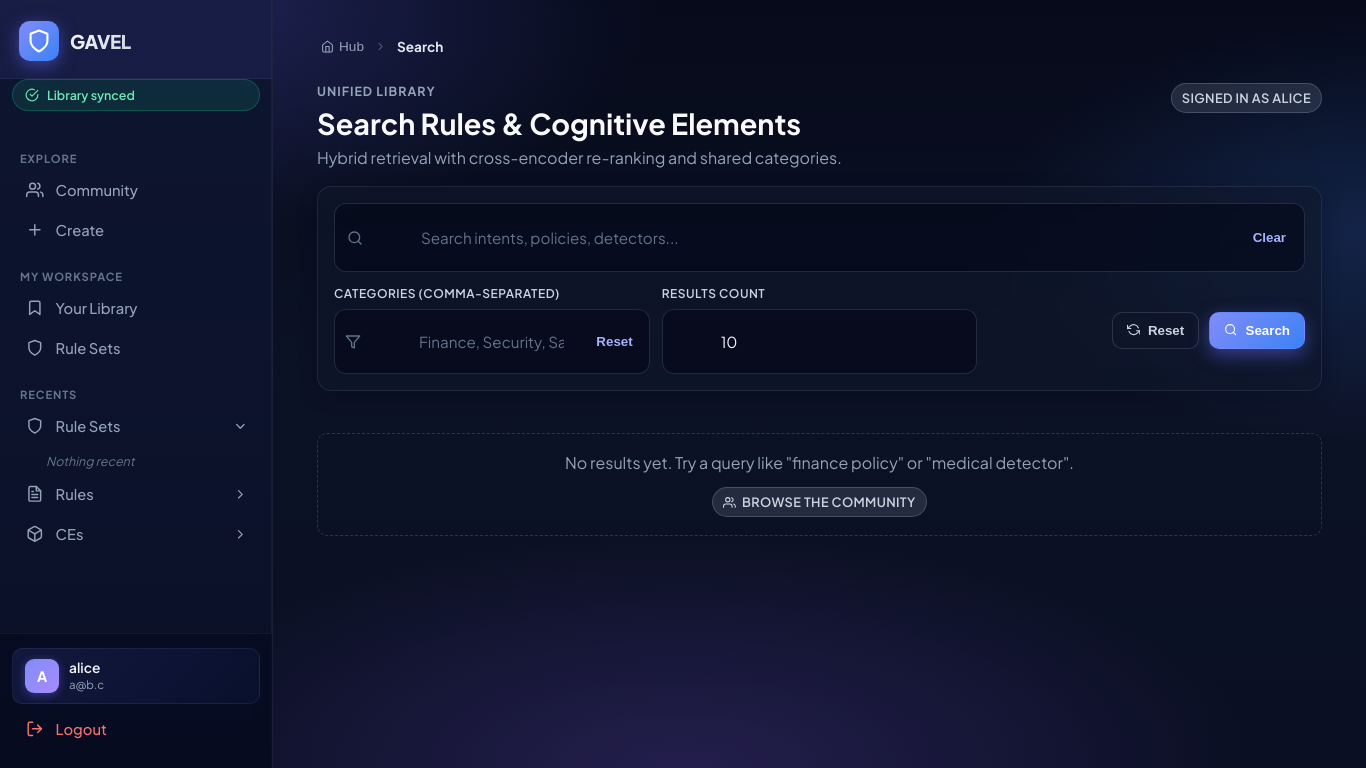
Scenario: LibrarySearch — validation › shows an error and does not search when query is blank
Click the button "Search": {"x": 1257, "y": 330} [1209, 312, 1305, 348]
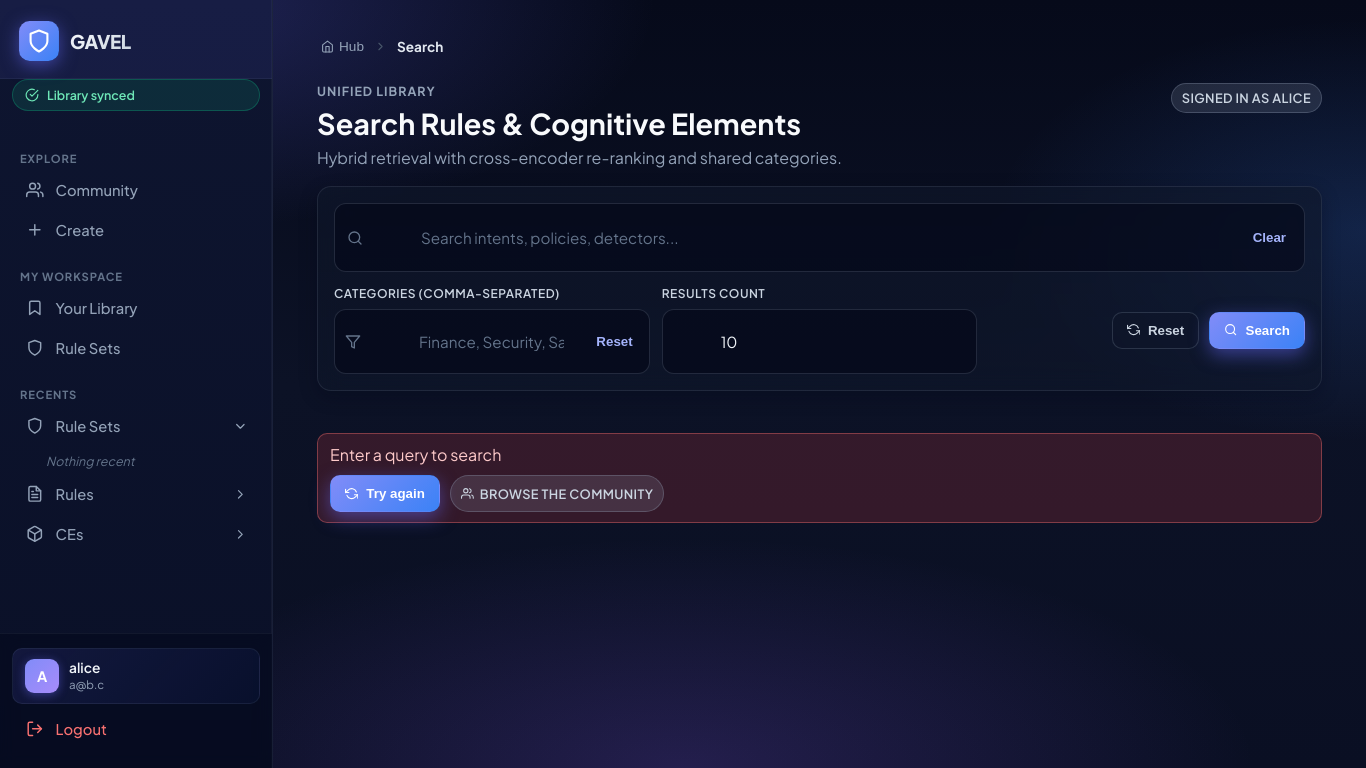
Now the text "Enter a query to search" is shown, box [330, 444, 501, 465]
